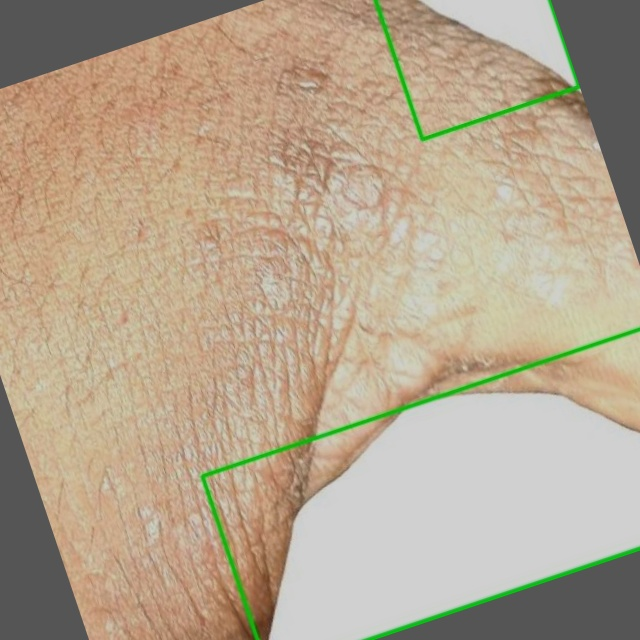Scabies: (201, 330, 639, 639), (375, 0, 579, 139)
